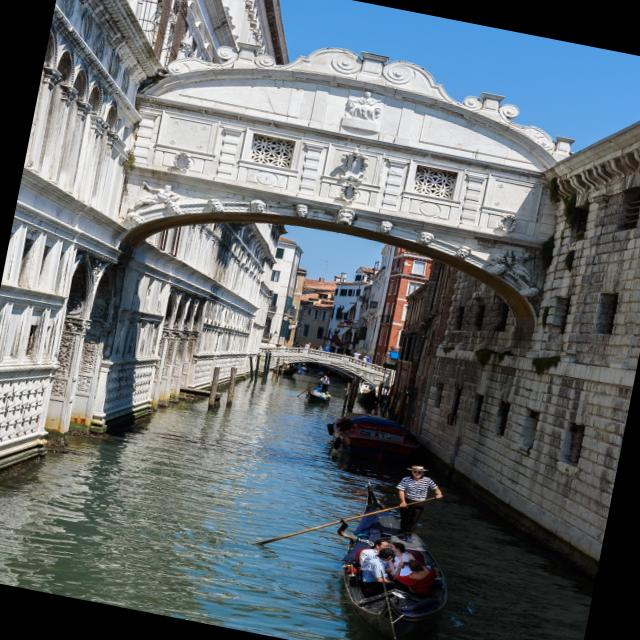boat: (299, 470, 495, 640)
